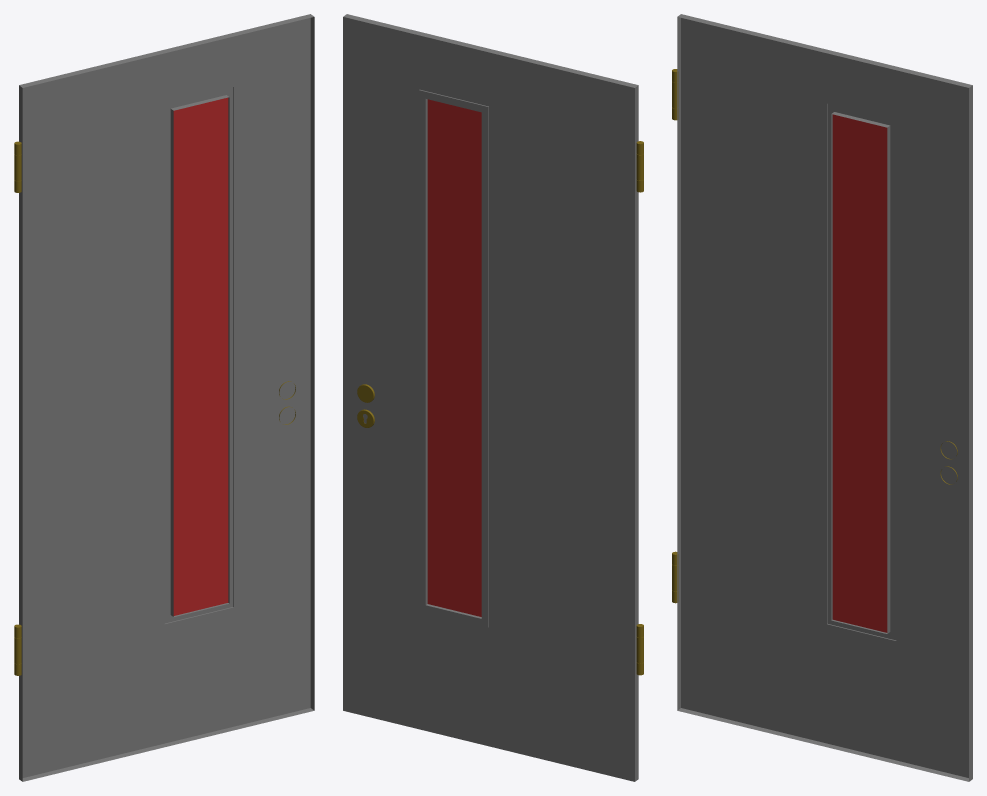
File: SM_Door_Left.fbx
3 renders of one model, left to right at view 1: azimuth 30°, elevation 25°; view 2: azimuth 150°, elevation 25°; view 3: azimuth 330°, elevation 25°, orthographic.
Parts seen in each view (by area): view 1: SM_Door_Left; view 2: SM_Door_Left; view 3: SM_Door_Left.
Part boxes in pixels (x1=…): SM_Door_Left: x1=14, y1=14, x2=314, y2=781; SM_Door_Left: x1=343, y1=14, x2=643, y2=781; SM_Door_Left: x1=672, y1=14, x2=972, y2=781.
Size of the model in its own units: 101 by 224 by 3.1.
